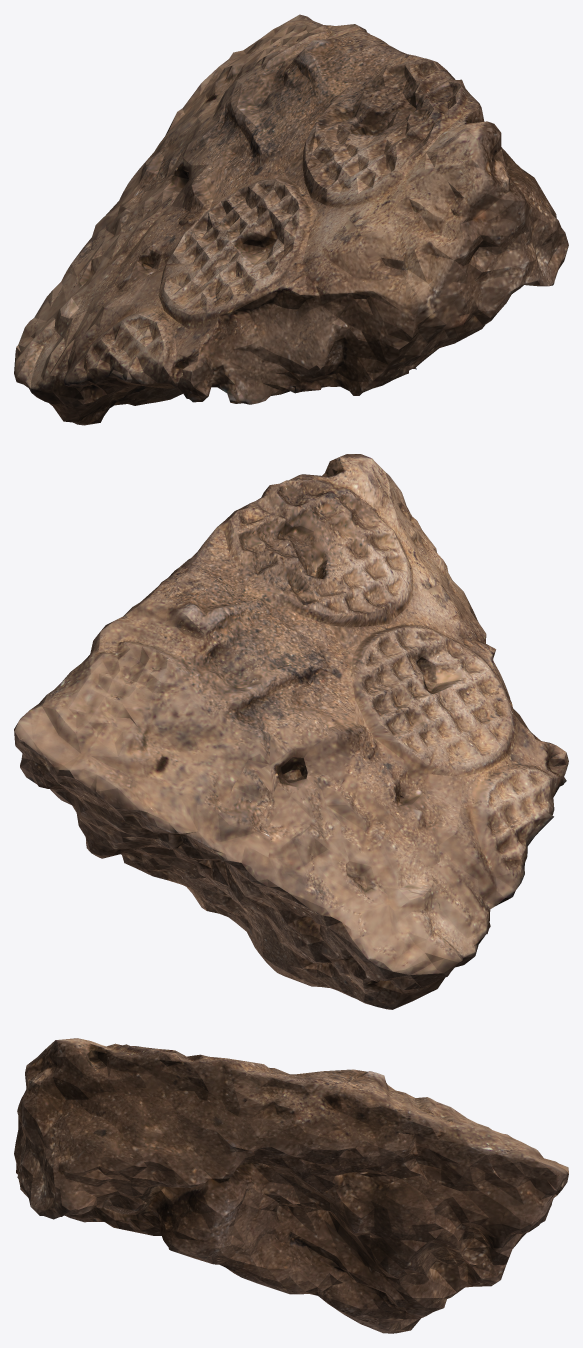
Rendered from m_sealimpression_lowpoly.fbx.
3 views of the same model, one above another, from view 1: azimuth 30°, elevation 25°; view 2: azimuth 150°, elevation 25°; view 3: azimuth 270°, elevation 25° (orthographic). The views are drawn at different scales.
Visible parts, largest first — view 1: ANC14809_seal impression; view 2: ANC14809_seal impression; view 3: ANC14809_seal impression.
Part boxes in pixels (x1=…): ANC14809_seal impression: x1=14, y1=14, x2=568, y2=425; ANC14809_seal impression: x1=14, y1=454, x2=568, y2=1009; ANC14809_seal impression: x1=14, y1=1038, x2=568, y2=1333.
Bounding box in the file's own units: 60.8 × 57.99 × 82.63.
1 material, 1 textured.
